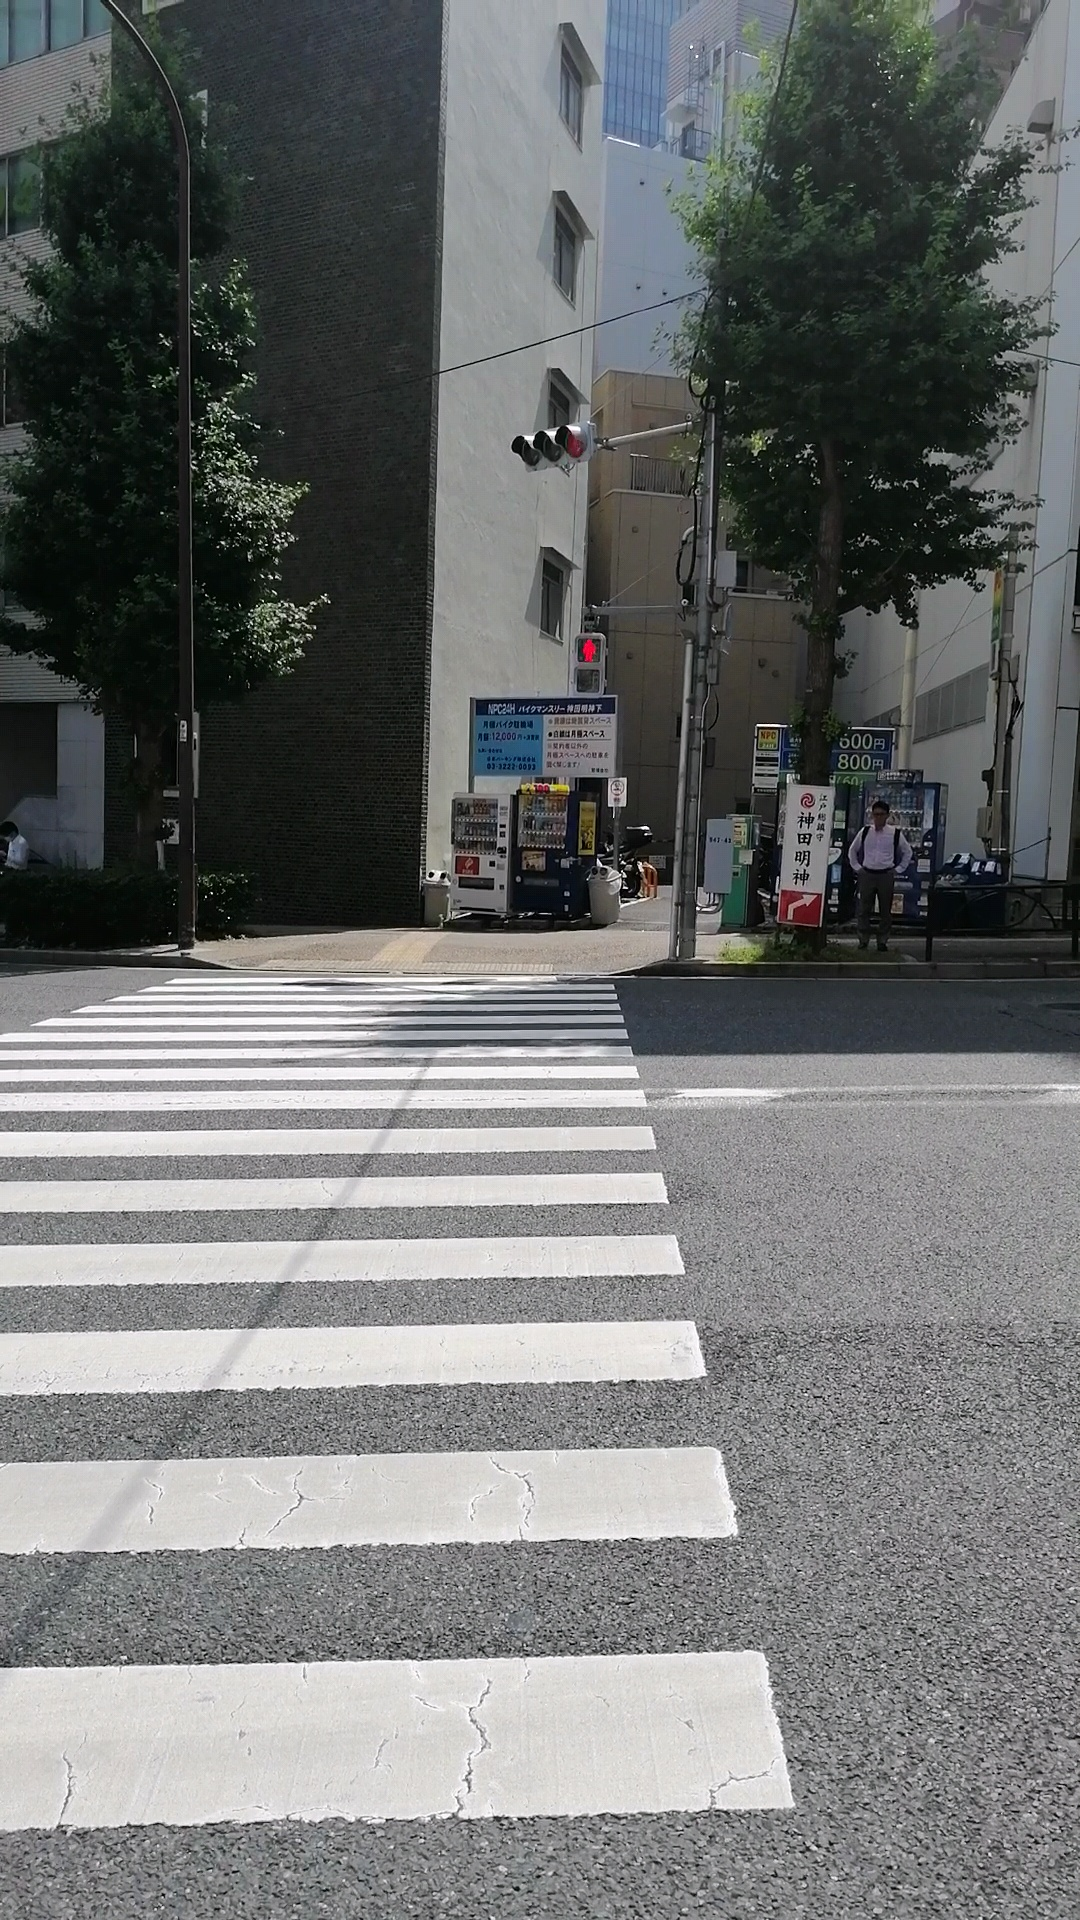red: (571, 632, 604, 698)
